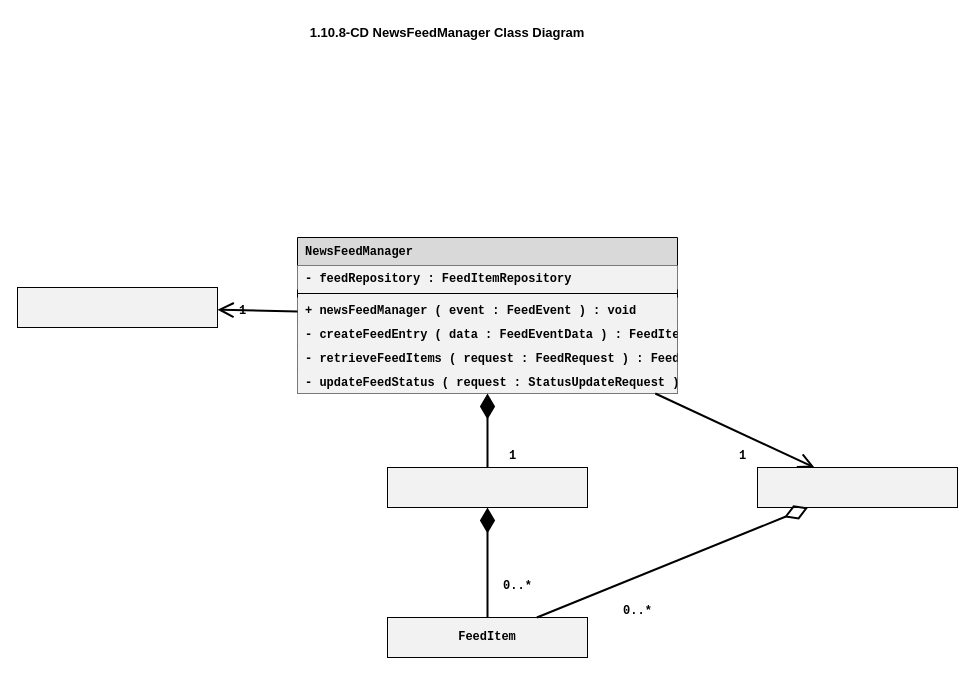
The diagram is 975 pixels wide and 675 high, and some of its shapes have lost their labels. The box of each missing label's shape, as (x1, y1, x2, y2) in pixels:
FeedEvent: (16, 286, 218, 328)
FeedItemList: (756, 466, 958, 508)
FeedItemRepository: (386, 466, 588, 508)
